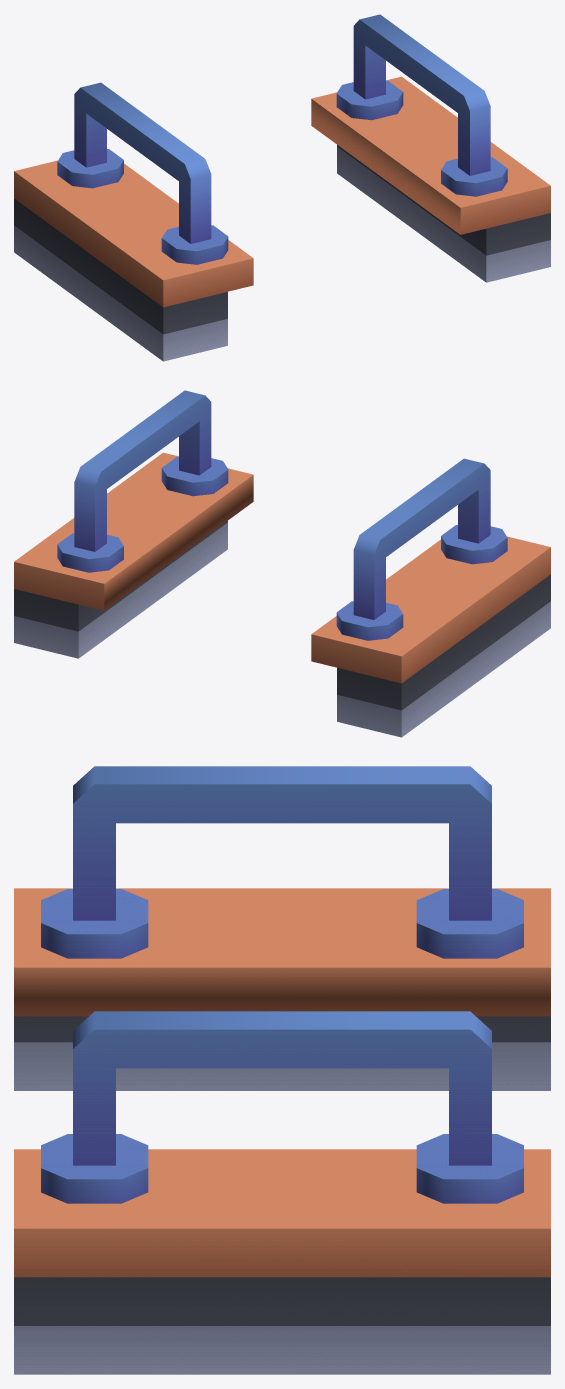
The model's file is station-fence.glb.
The picture shows the model from 3 angles, top to bottom: view 1: azimuth 30°, elevation 25°; view 2: azimuth 150°, elevation 25°; view 3: azimuth 270°, elevation 25°; orthographic projection. The views are drawn at different scales.
Parts seen in each view (by area): view 1: station-fence; view 2: station-fence; view 3: station-fence.
Part boxes in pixels (box(x1,y1,x2,y2)): station-fence: box(14, 14, 550, 361); station-fence: box(14, 390, 550, 737); station-fence: box(14, 766, 550, 1374).
Size of the model in its own units: 1.5 by 0.63 by 1.
1 material, 1 textured.
